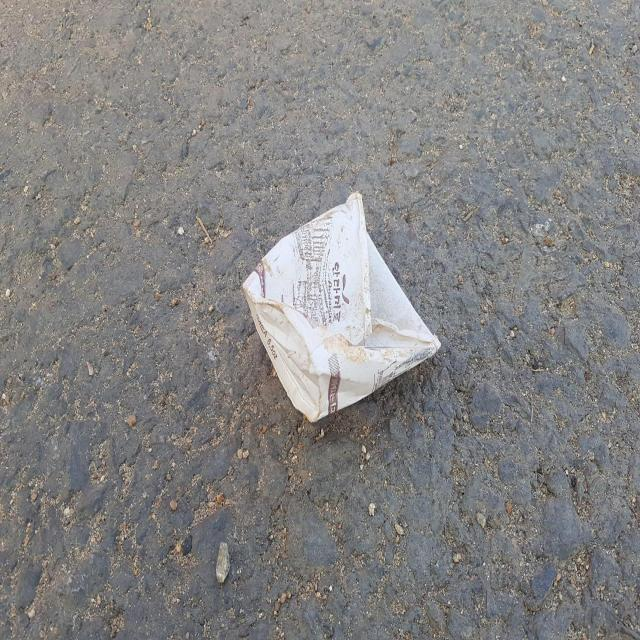paperpack: (243, 192, 441, 421)
